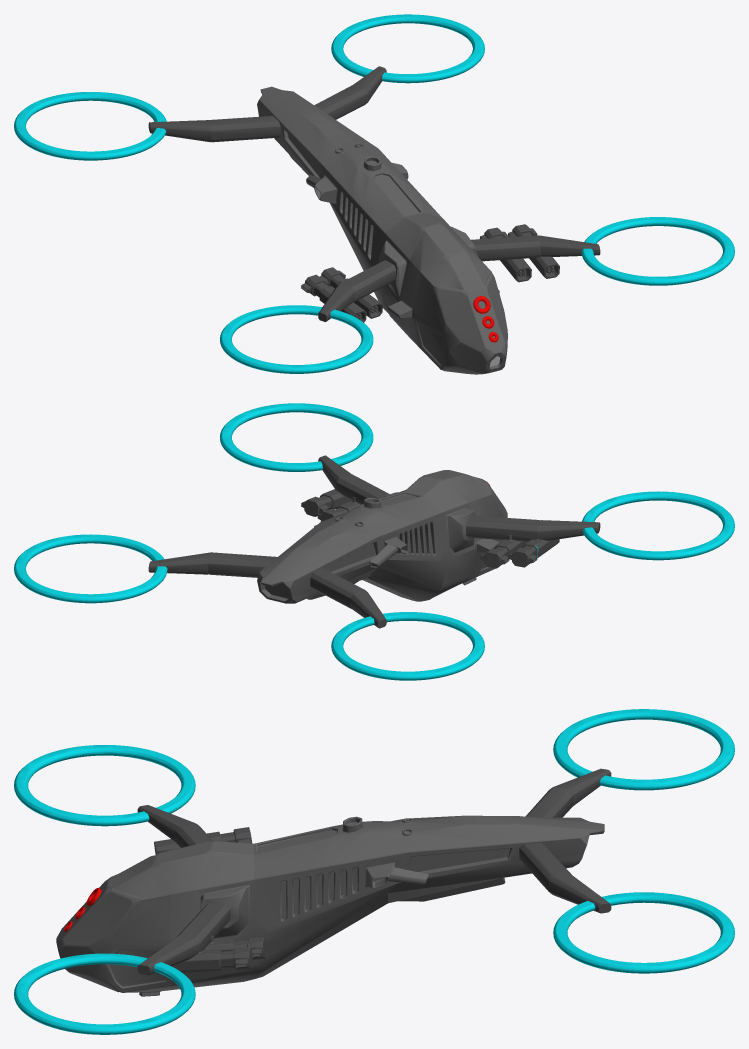
The model's file is Drone.fbx.
3 views of the same model, one above another, from view 1: azimuth 30°, elevation 25°; view 2: azimuth 150°, elevation 25°; view 3: azimuth 270°, elevation 25° (orthographic). The views are drawn at different scales.
Parts seen in each view (by area): view 1: Null_Null_1_2; view 2: Null_Null_1_2; view 3: Null_Null_1_2.
Part boxes in pixels (x1,y1,x2,y2): Null_Null_1_2: (14, 14, 734, 374); Null_Null_1_2: (14, 403, 734, 680); Null_Null_1_2: (14, 709, 734, 1034).
Size of the model in its own units: 568 by 159 by 607.
